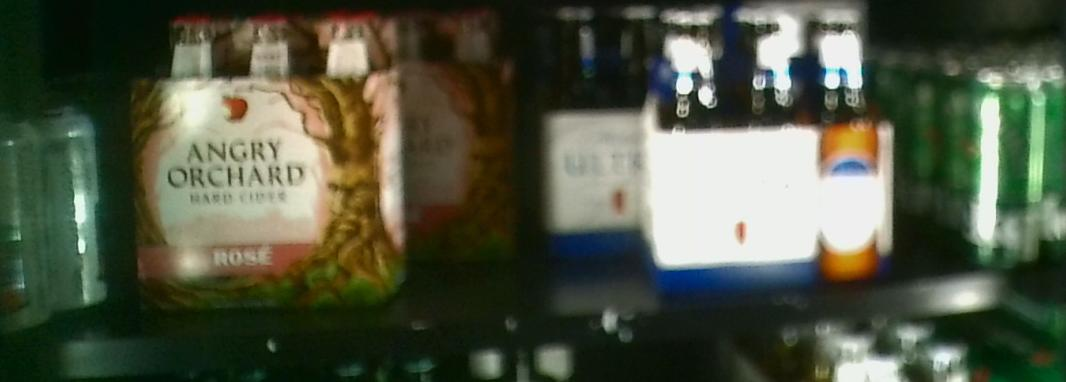bottle: (124, 11, 402, 302), (646, 12, 891, 284)
